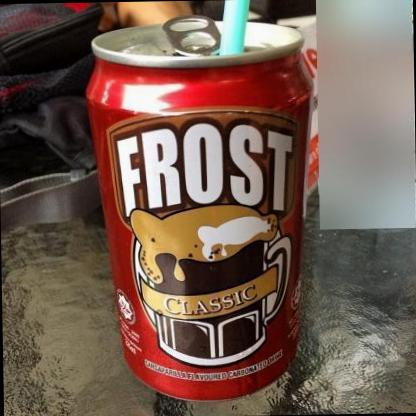alumunium_can: (84, 14, 320, 403)
